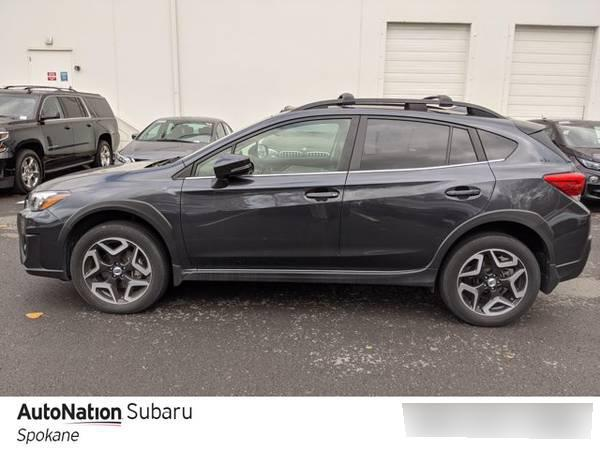Front_Bumper: (18, 208, 71, 281)
Front_Fender: (38, 162, 193, 278)
Front_Left_Door: (181, 170, 347, 277)
Front_Left_Window: (184, 112, 363, 178)
Left_Headlight: (24, 191, 69, 212)
Left_Taillight: (540, 171, 584, 198)
Rear_Bumper: (536, 198, 589, 288)
Rear_Fender: (475, 127, 574, 228)
Rear_Left_Door: (339, 161, 495, 280)
Rear_Left_Window: (347, 114, 488, 171)
Roof: (180, 96, 567, 165)
Wheel: (445, 229, 549, 325), (69, 219, 168, 310)
